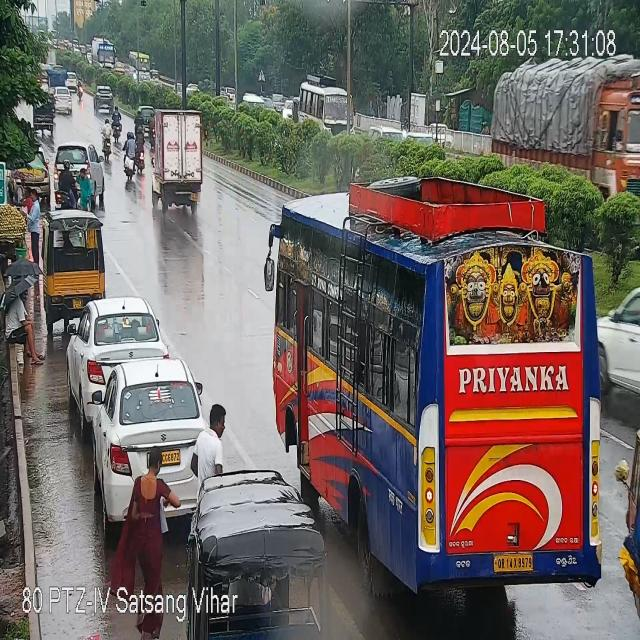2-wheelers: (98, 121, 116, 168), (123, 133, 137, 183), (135, 110, 145, 142), (113, 103, 121, 140), (148, 111, 155, 148), (77, 76, 83, 100)
bus: (258, 154, 622, 594), (298, 74, 361, 134), (87, 42, 120, 74)
car: (102, 355, 206, 515), (72, 294, 156, 404), (57, 142, 103, 202)
pedestrian: (124, 443, 179, 581), (4, 276, 45, 374), (195, 394, 228, 476), (26, 183, 42, 257)
truck: (496, 64, 640, 185), (147, 107, 205, 220)
